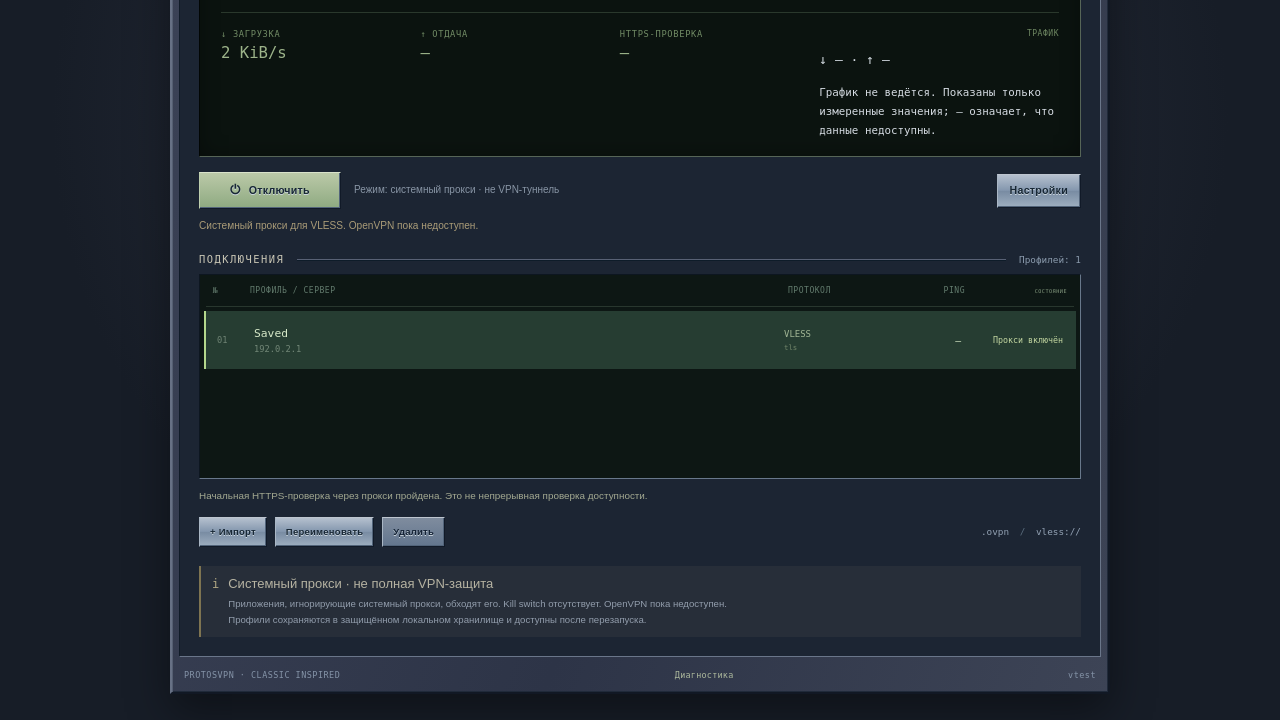
Test: diagnostics reports protected storage rather than memory or unknown
This screenshot has width=1280, height=720.
(page scrolled)
Expected: the button with aria-label "Выбрать Saved" is shown, [204, 311, 1076, 369]
Click the button "Диагностика". click: (704, 675)
box: [675, 667, 733, 683]
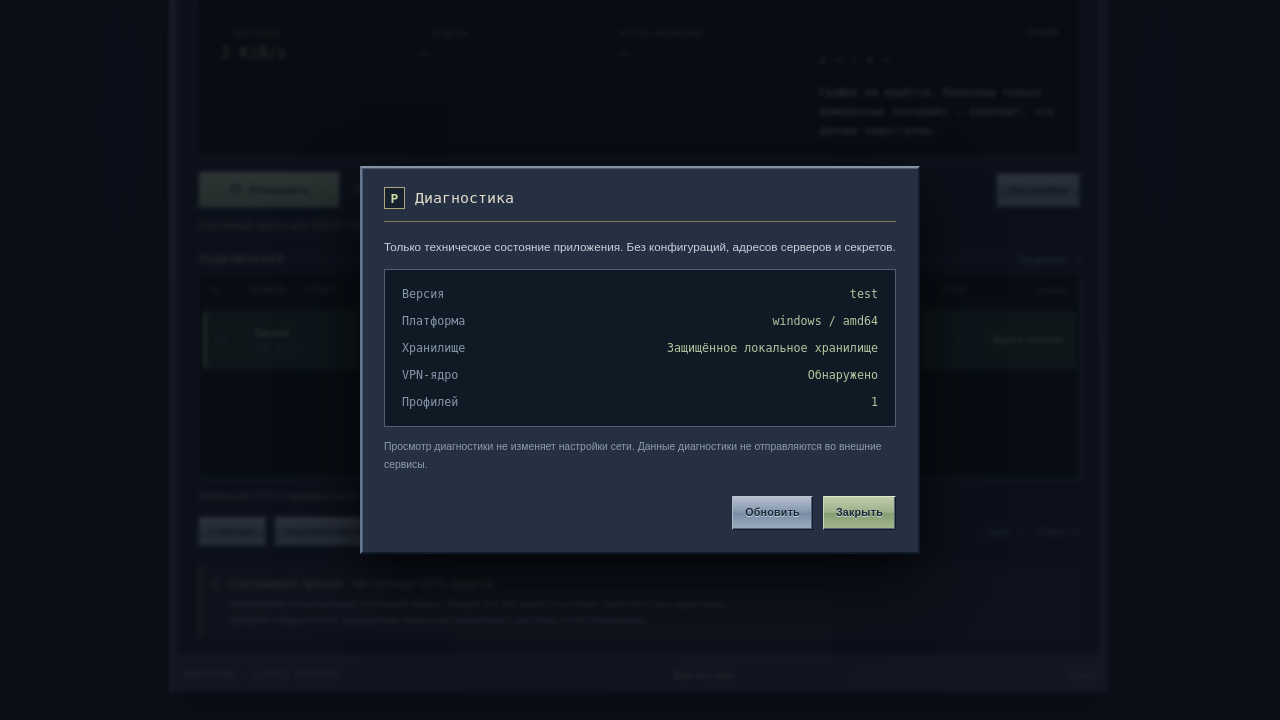
Expected: the text "Защищённое локальное хранилище" is shown, [646, 341, 878, 355]
